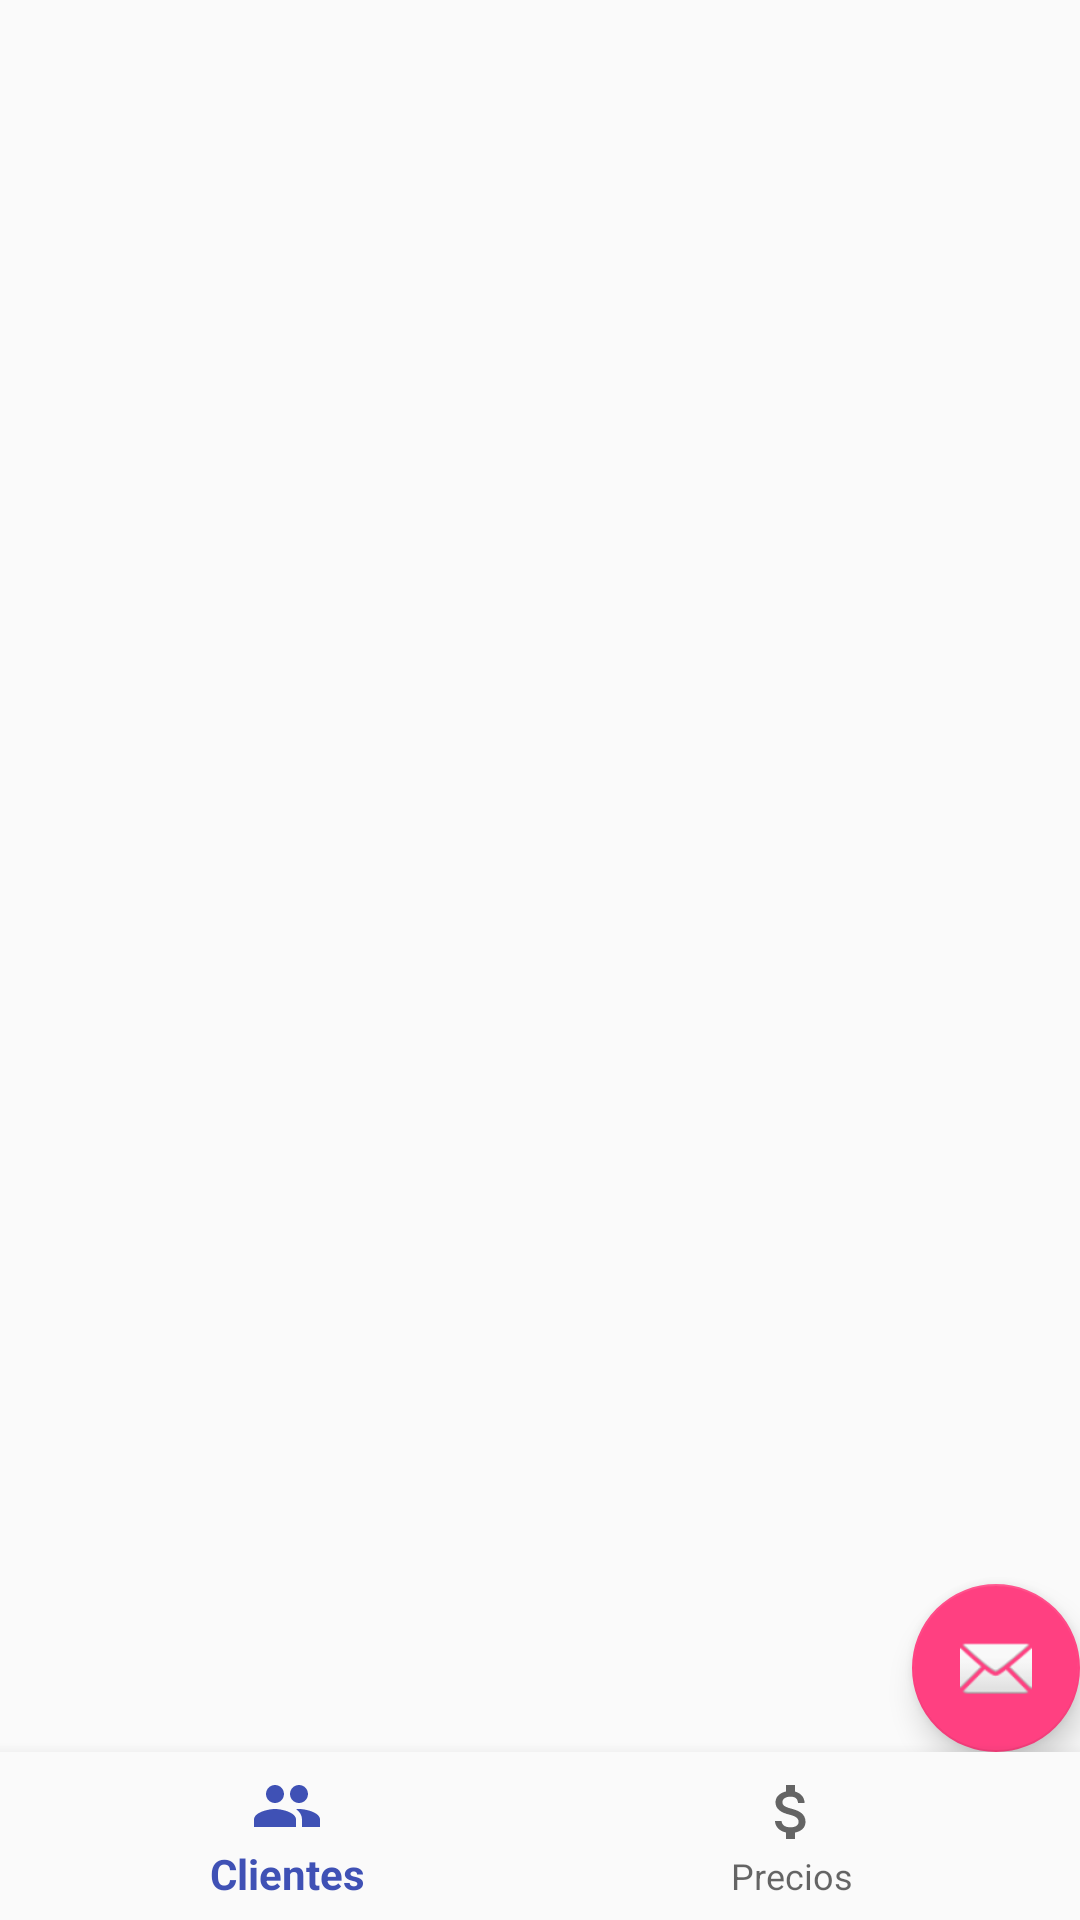

Icon click points for this 1080*1920 phone screenshot, format (x=x, y=y):
email: (x=996, y=1668)
